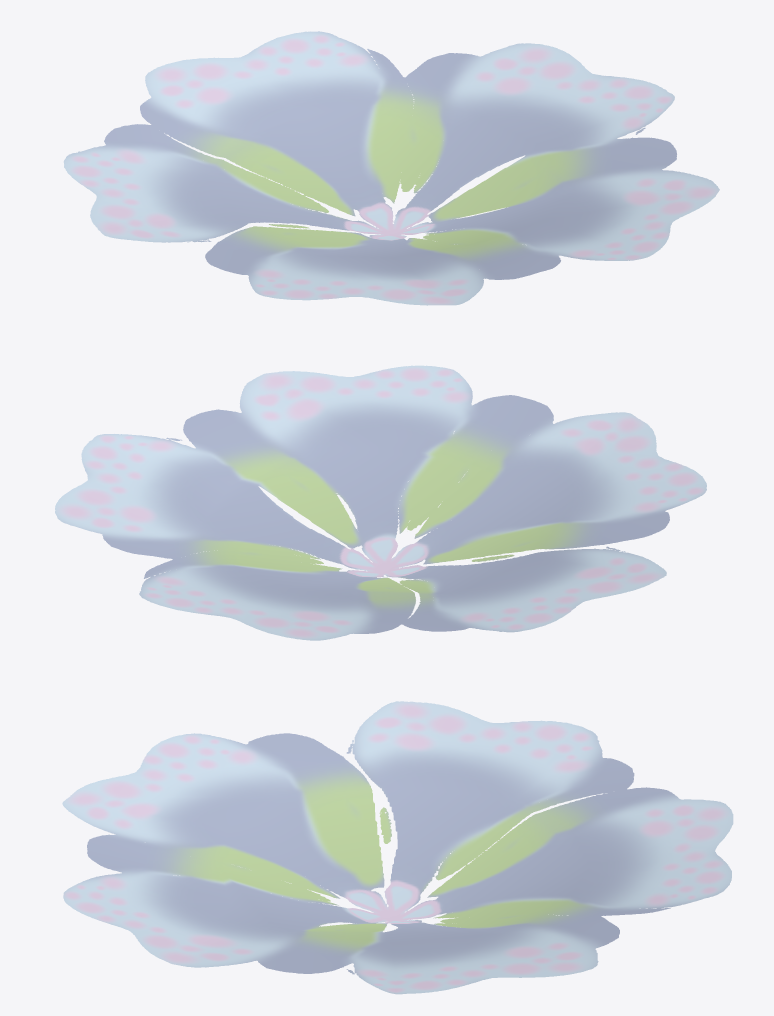
File: Item_Flower_Air.fbx
3 renders of one model, top to bottom at view 1: azimuth 30°, elevation 25°; view 2: azimuth 150°, elevation 25°; view 3: azimuth 270°, elevation 25°, orthographic. The views are drawn at different scales.
Visible parts, largest first — view 1: Item_Flower_Air; view 2: Item_Flower_Air; view 3: Item_Flower_Air.
Boxes of the visible parts, bbox=[...] form: Item_Flower_Air: bbox=[63, 31, 719, 305]; Item_Flower_Air: bbox=[55, 365, 706, 640]; Item_Flower_Air: bbox=[62, 701, 733, 994].
Bounding box in the file's own units: 5.2 × 0.5696 × 5.17.
1 material, 1 textured.
